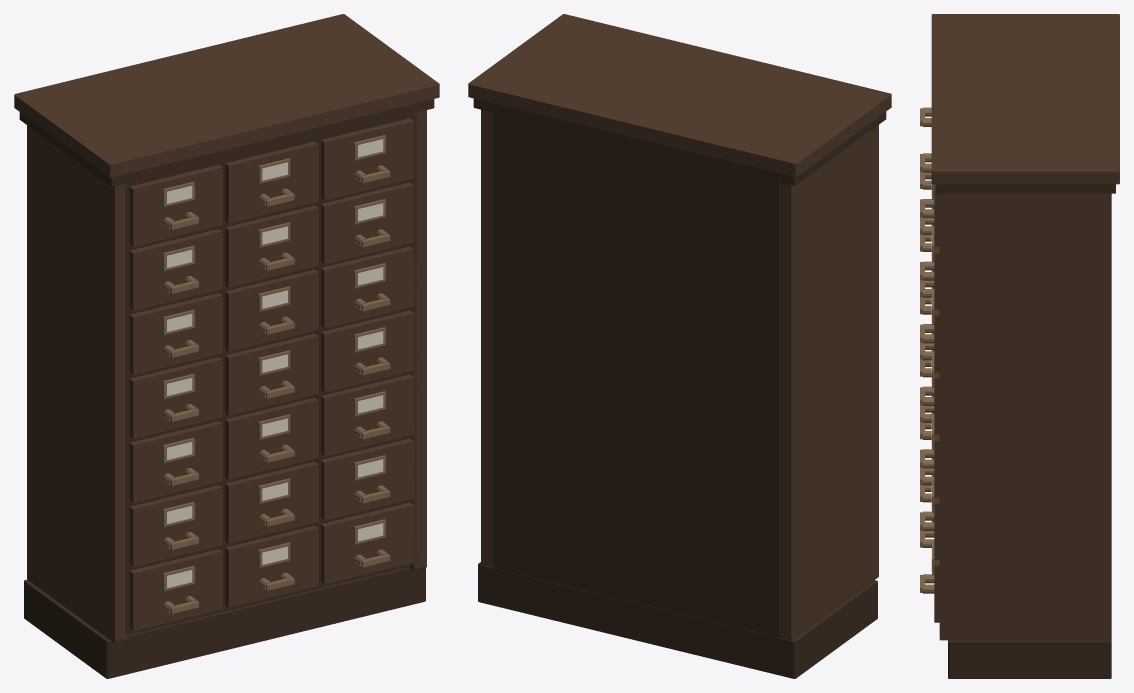
File: card_catalog.glb
The picture shows the model from 3 angles, left to right: view 1: azimuth 30°, elevation 25°; view 2: azimuth 150°, elevation 25°; view 3: azimuth 270°, elevation 25°; orthographic projection. The views are drawn at different scales.
Visible parts, largest first — view 1: card_catalog; view 2: card_catalog; view 3: card_catalog.
Part boxes in pixels (x1=…): card_catalog: x1=14, y1=14, x2=439, y2=678; card_catalog: x1=468, y1=14, x2=891, y2=678; card_catalog: x1=920, y1=14, x2=1119, y2=678.
Bounding box in the file's own units: 0.91 × 1.38 × 0.488.
